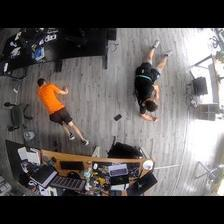fall: (34, 79, 89, 146), (136, 40, 173, 122)
